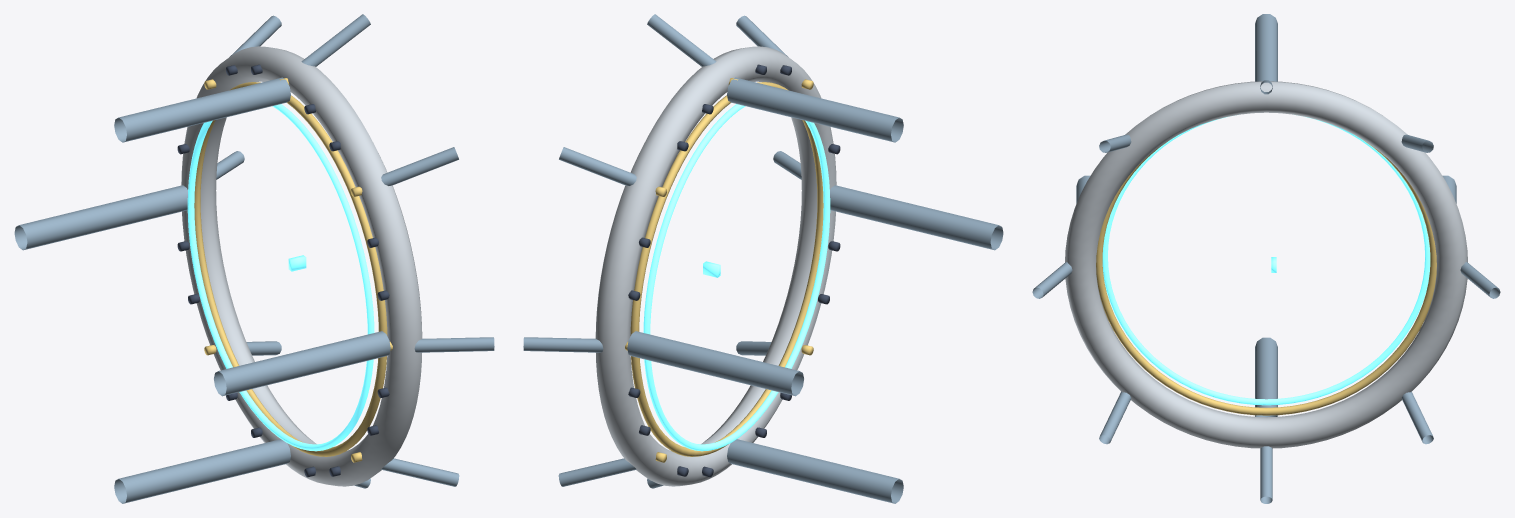
The model's file is L85_12_StationCaptureStructuralFrame_Fitted.fbx.
3 views of the same model, side by side, from view 1: azimuth 30°, elevation 25°; view 2: azimuth 150°, elevation 25°; view 3: azimuth 270°, elevation 25° (orthographic). The views are drawn at different scales.
Parts seen in each view (by area): view 1: L85_StationCaptureStructuralFrame_Static__tintA8B8C7, L85_StationCaptureStructuralFrame_Static__tint527391, L85_StationCaptureStructuralFrame_Static__tintF7B83D, L85_StationCaptureStructuralFrame_Static__tint2ED9FA, L85_StationCaptureStructuralFrame_Static__tint111724; view 2: L85_StationCaptureStructuralFrame_Static__tintA8B8C7, L85_StationCaptureStructuralFrame_Static__tint527391, L85_StationCaptureStructuralFrame_Static__tintF7B83D, L85_StationCaptureStructuralFrame_Static__tint2ED9FA, L85_StationCaptureStructuralFrame_Static__tint111724; view 3: L85_StationCaptureStructuralFrame_Static__tintA8B8C7, L85_StationCaptureStructuralFrame_Static__tint527391, L85_StationCaptureStructuralFrame_Static__tintF7B83D, L85_StationCaptureStructuralFrame_Static__tint2ED9FA.
Boxes of the visible parts, x1,y1,x2,y2 form: L85_StationCaptureStructuralFrame_Static__tintA8B8C7: [181, 46, 422, 486]; L85_StationCaptureStructuralFrame_Static__tint527391: [14, 14, 494, 503]; L85_StationCaptureStructuralFrame_Static__tintF7B83D: [194, 78, 392, 462]; L85_StationCaptureStructuralFrame_Static__tint2ED9FA: [187, 104, 374, 451]; L85_StationCaptureStructuralFrame_Static__tint111724: [177, 64, 389, 477]; L85_StationCaptureStructuralFrame_Static__tintA8B8C7: [595, 46, 836, 486]; L85_StationCaptureStructuralFrame_Static__tint527391: [523, 14, 1003, 503]; L85_StationCaptureStructuralFrame_Static__tintF7B83D: [625, 78, 823, 462]; L85_StationCaptureStructuralFrame_Static__tint2ED9FA: [643, 104, 830, 451]; L85_StationCaptureStructuralFrame_Static__tint111724: [628, 64, 840, 477]; L85_StationCaptureStructuralFrame_Static__tintA8B8C7: [1065, 81, 1467, 448]; L85_StationCaptureStructuralFrame_Static__tint527391: [1032, 14, 1500, 503]; L85_StationCaptureStructuralFrame_Static__tintF7B83D: [1096, 140, 1436, 415]; L85_StationCaptureStructuralFrame_Static__tint2ED9FA: [1102, 115, 1430, 405].
Size of the model in its own units: 27.66 by 50.29 by 50.35.
